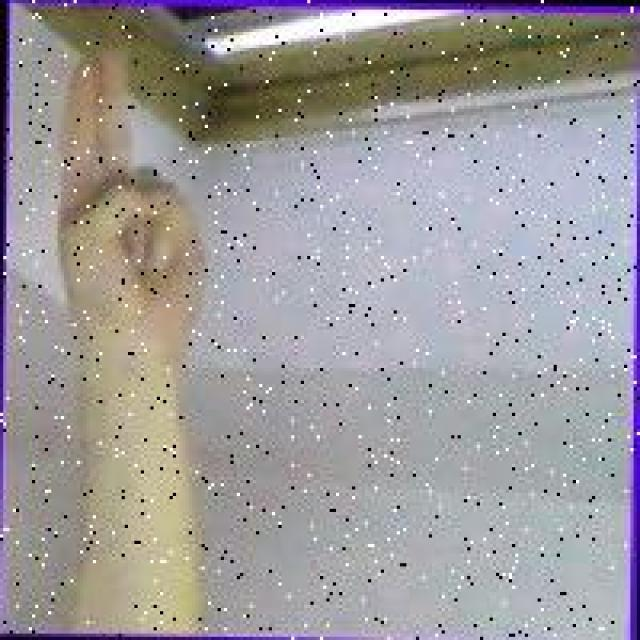U: (43, 38, 216, 356)
